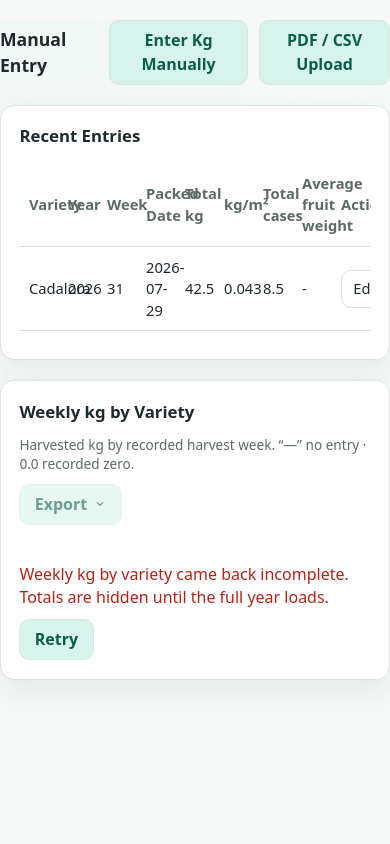
Test case: desktop manual kg entry — pinned behaviour › opens with the first variety, this year and Sunday-start week, today's packed date, and zeroed sizes in sort order
Click the button "Enter Kg Manually": {"x": 179, "y": 52} [109,20,248,85]
(page scrolled)
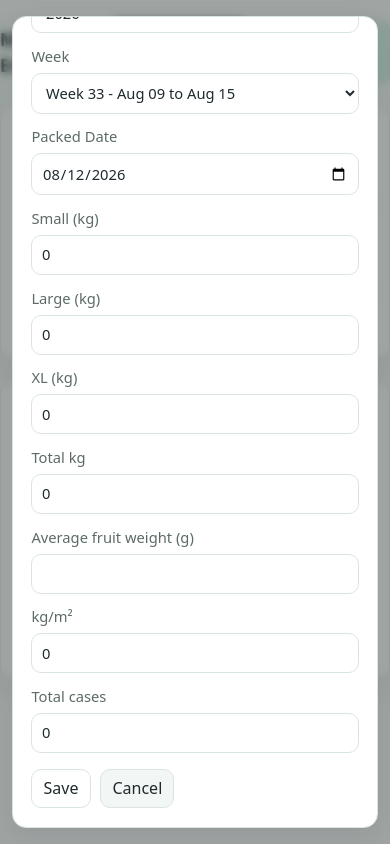
Now the dialog "Enter Kg" is shown
Now the dropdown labelled "Week" shows "Week 33 - Aug 09 to Aug 15", box [31,73,359,114]
Now the date field labelled "Packed Date" holds "2026-08-12", box [31,153,359,195]
